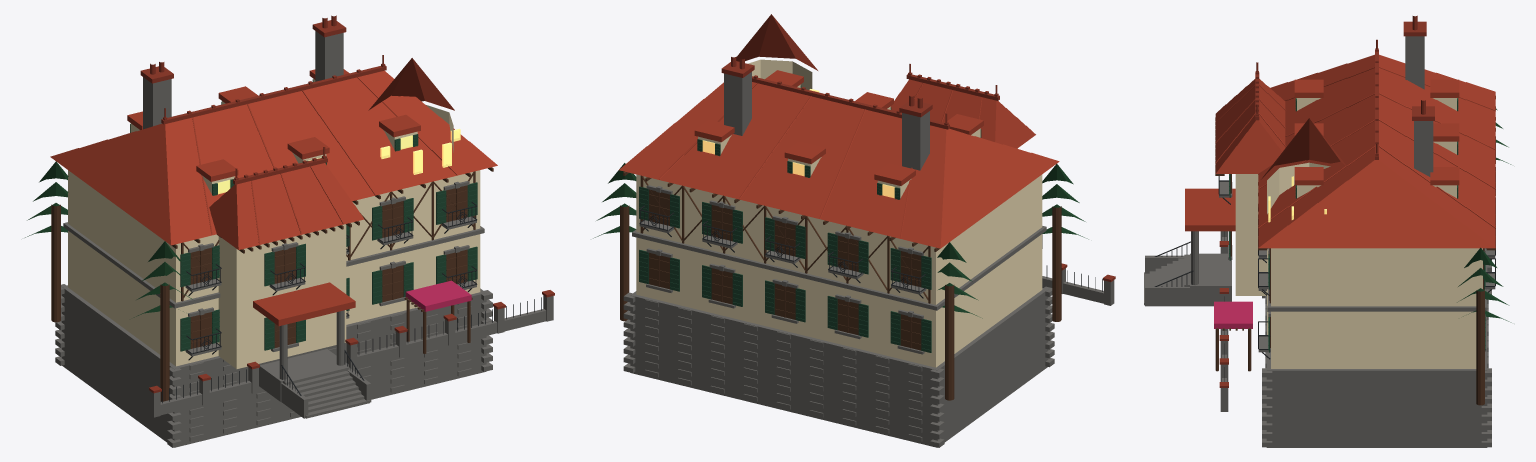
The model's file is fv_nb_10_doc_nha_bo_upper_crest_french_manor.glb.
The picture shows the model from 3 angles, left to right: view 1: azimuth 30°, elevation 25°; view 2: azimuth 150°, elevation 25°; view 3: azimuth 270°, elevation 25°; orthographic projection. The views are drawn at different scales.
Parts seen in each view (by area): view 1: marseille_corrugated_roof_tiles, granite_foundation_and_stairs, stucco_facade_and_dormers, colombage_timber_and_eaves, pine_green_louvered_shutters, ridge_cresting_and_chimneys, wrought_iron_balconies_3d, pine_trees_and_garden_hedges, bougainvillea_pergola_clusters, warm_night_windows_ffb86c; view 2: granite_foundation_and_stairs, marseille_corrugated_roof_tiles, stucco_facade_and_dormers, colombage_timber_and_eaves, pine_green_louvered_shutters, ridge_cresting_and_chimneys, pine_trees_and_garden_hedges, wrought_iron_balconies_3d; view 3: marseille_corrugated_roof_tiles, stucco_facade_and_dormers, granite_foundation_and_stairs, colombage_timber_and_eaves, ridge_cresting_and_chimneys, bougainvillea_pergola_clusters, wrought_iron_balconies_3d, pine_trees_and_garden_hedges, pine_green_louvered_shutters.
Part boxes in pixels (x1,y1,x2,y2): marseille_corrugated_roof_tiles: (50,58,497,326); granite_foundation_and_stairs: (55,31,553,447); stucco_facade_and_dormers: (68,79,480,369); colombage_timber_and_eaves: (51,167,493,401); pine_green_louvered_shutters: (130,79,477,351); ridge_cresting_and_chimneys: (140,15,554,393); wrought_iron_balconies_3d: (162,202,541,403); pine_trees_and_garden_hedges: (25,161,192,317); bougainvillea_pergola_clusters: (405,280,471,311); warm_night_windows_ffb86c: (217,128,460,194); granite_foundation_and_stairs: (623,72,1114,447); marseille_corrugated_roof_tiles: (619,14,1059,248); stucco_facade_and_dormers: (636,59,1042,367); colombage_timber_and_eaves: (620,171,1061,400); pine_green_louvered_shutters: (639,85,981,352); ridge_cresting_and_chimneys: (721,56,1115,281); pine_trees_and_garden_hedges: (593,163,1088,318); wrought_iron_balconies_3d: (639,205,1102,298); marseille_corrugated_roof_tiles: (1185,54,1495,248); stucco_facade_and_dormers: (1235,98,1482,368); granite_foundation_and_stairs: (1144,36,1495,447); colombage_timber_and_eaves: (1215,96,1495,405); ridge_cresting_and_chimneys: (1219,15,1434,387); bougainvillea_pergola_clusters: (1214,301,1252,328); wrought_iron_balconies_3d: (1154,136,1495,381); pine_trees_and_garden_hedges: (1457,108,1511,322); pine_green_louvered_shutters: (1229,98,1485,352).
Size of the model in its own units: 25.43 by 19.03 by 21.06.
